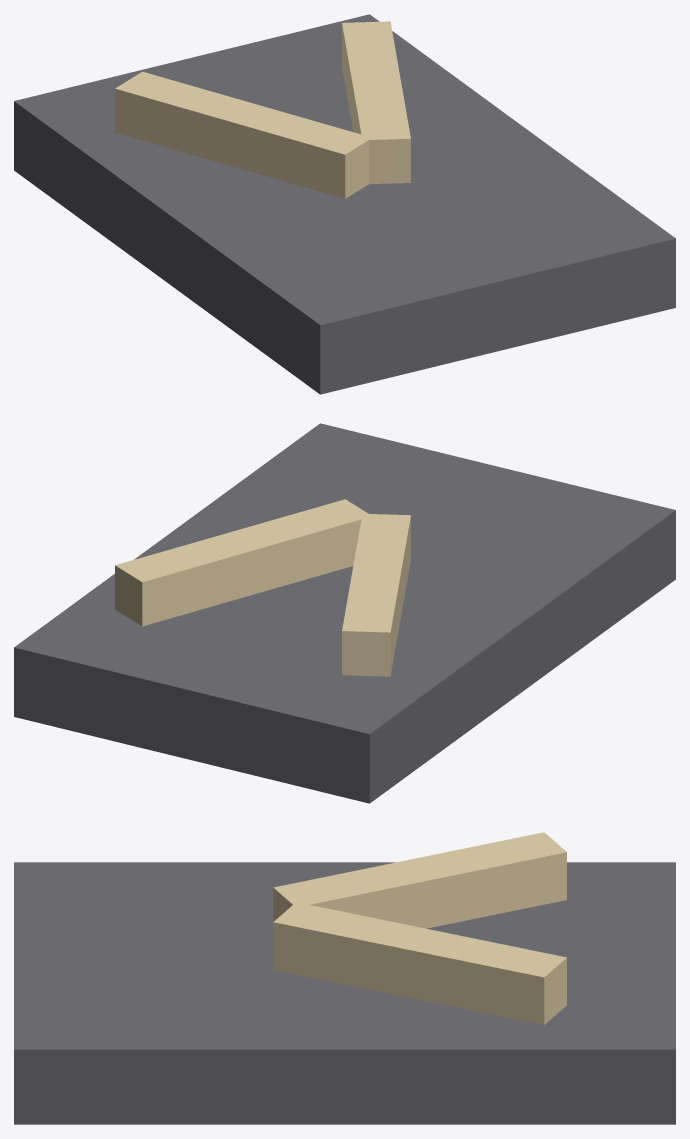
File: chinelo.glb
3 views of the same model, one above another, from view 1: azimuth 30°, elevation 25°; view 2: azimuth 150°, elevation 25°; view 3: azimuth 270°, elevation 25° (orthographic). The views are drawn at different scales.
Parts seen in each view (by area): view 1: Chinelo; view 2: Chinelo; view 3: Chinelo.
Part boxes in pixels (bbox=[...]): Chinelo: bbox=[14, 14, 675, 394]; Chinelo: bbox=[14, 423, 675, 803]; Chinelo: bbox=[14, 832, 675, 1124].
Bounding box in the file's own units: 0.295 × 0.0925 × 0.44.
